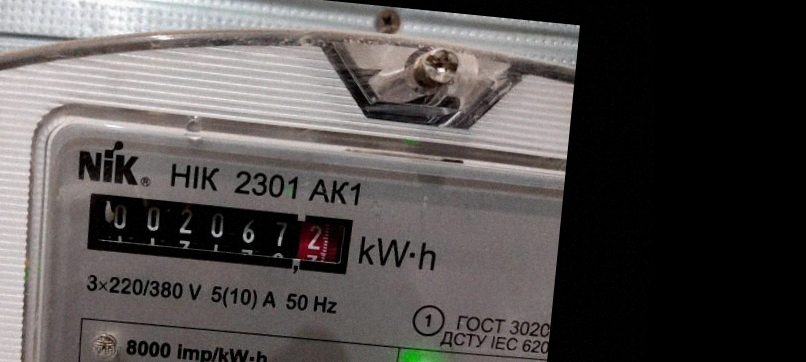0: (108, 201, 129, 232), (205, 208, 226, 238), (142, 202, 162, 233)
2: (303, 221, 324, 252), (175, 206, 195, 236)
6: (238, 215, 258, 245)
7: (270, 218, 289, 249)
screen: (69, 179, 368, 289)
